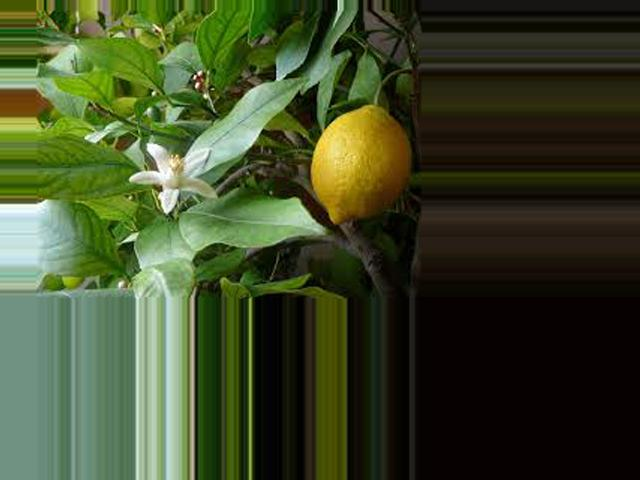lemon: (296, 99, 413, 231)
